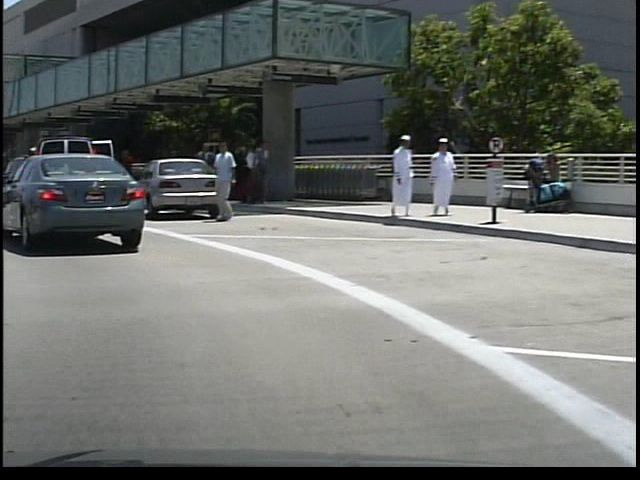person: (206, 134, 241, 228), (423, 131, 457, 219), (382, 130, 413, 220), (241, 138, 266, 207), (111, 143, 134, 208)
